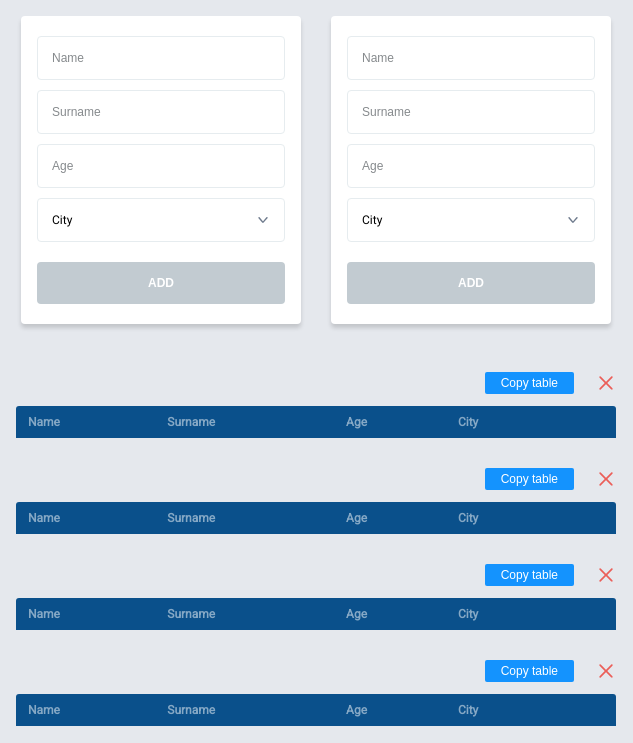
it: Table actions › Deletes a table
(page scrolled)
Click the 4th button with test id "btn-delete".
click(606, 671)  # box [596, 660, 616, 682]
(page scrolled)
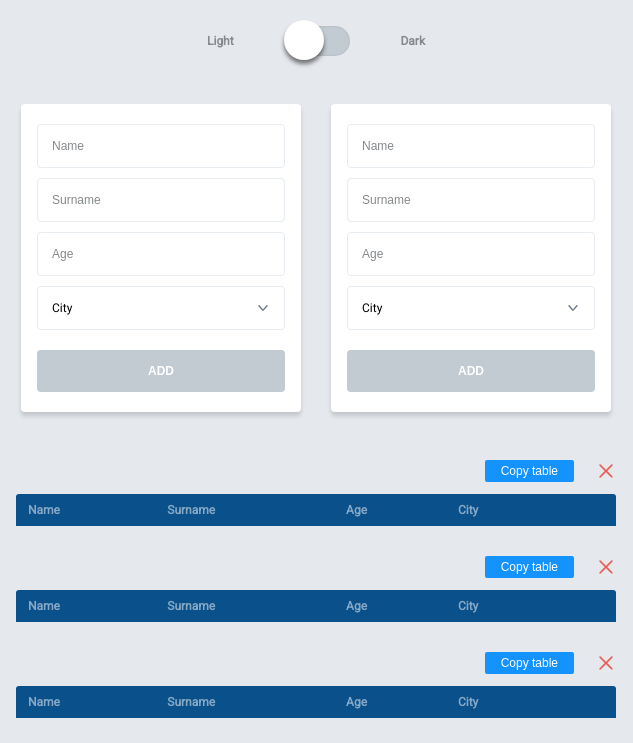
Now the number of elements with test id "copied-table" is 2, box [16, 556, 616, 622]; [16, 652, 616, 718]
